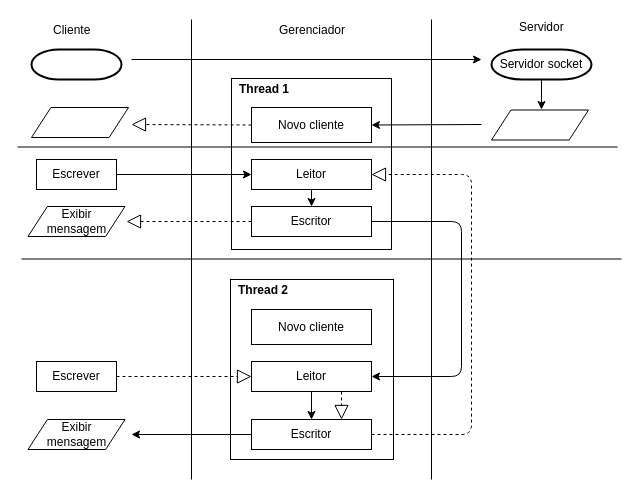
Some shapes in this 640 by 498 pixel diagram are drawn without their labels. The shapes that lost their labels are listed below. From the top down, each one's centre as x and y in pixels, then its label:
At pixel 76 64: "Socket".
At pixel 79 122: "Conectado".
At pixel 539 124: "Accept".
